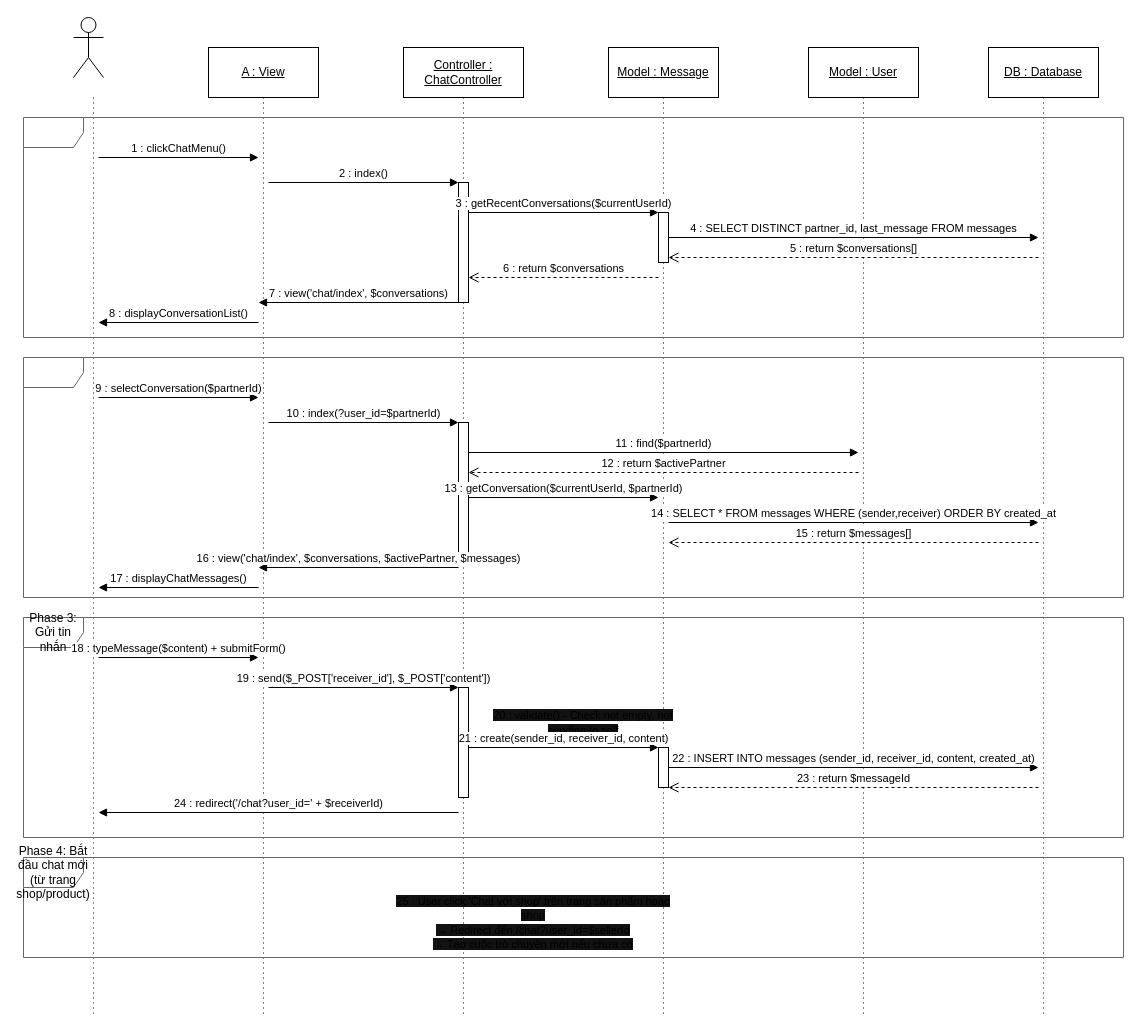
Image size: 1141x1036. Some labels were removed from this diagram. Each missing label, with the centre of its shape:
Phase 1: Hiển thị danh sách cuộc trò chuyện: the point at 573,227
Phase 2: Mở cuộc trò chuyện: the point at 573,477
User: the point at 88,47
